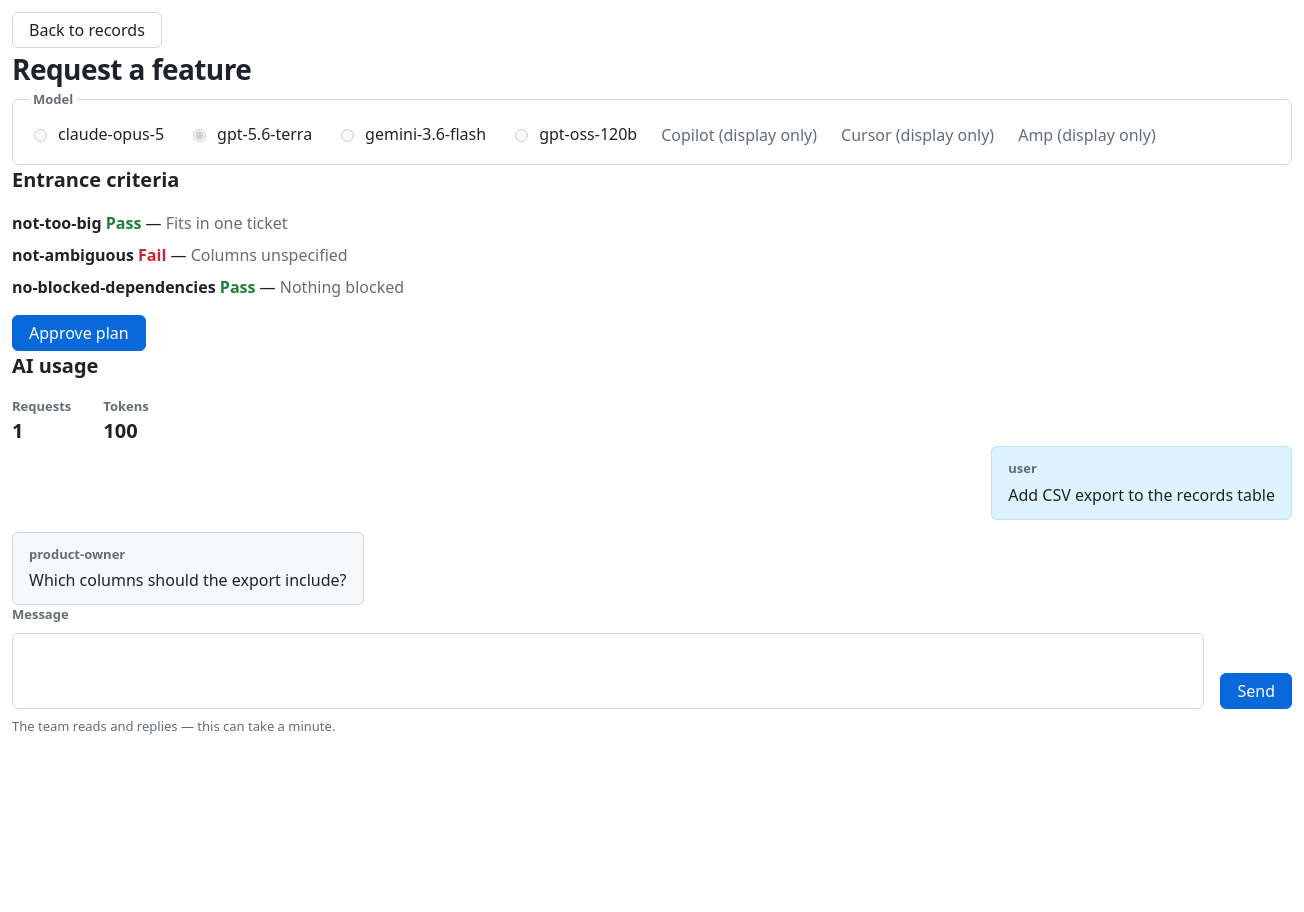
Scenario: DAN-82 · onNavigate fires when a session acquires a URL › a failed approval navigates nowhere
Click the button "Approve plan".
click(79, 332)  # box [12, 314, 146, 350]
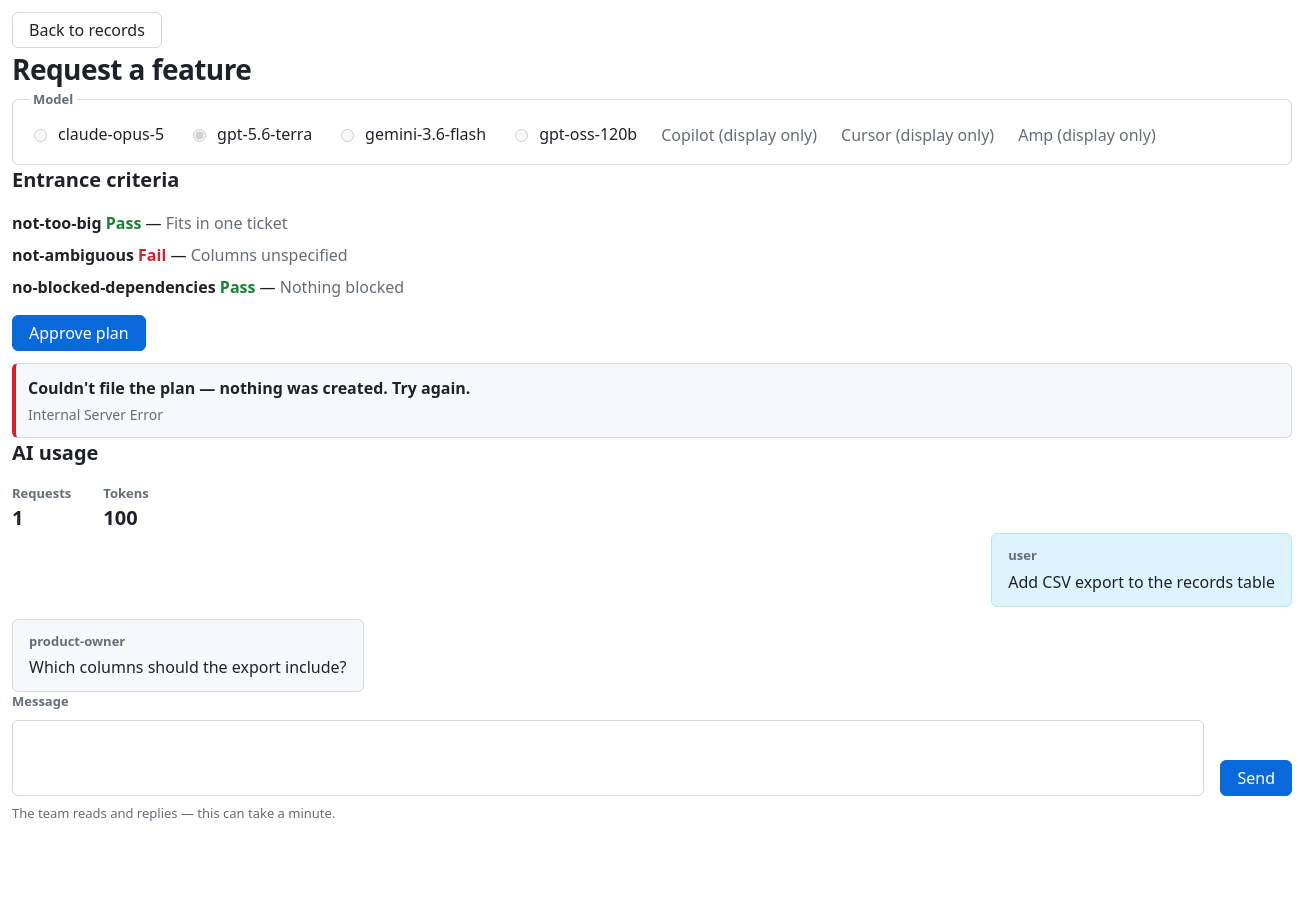
Result: the message "Couldn't file the plan — nothing was created. Try again. Internal Server Error" is shown at [12, 362, 1292, 438]
